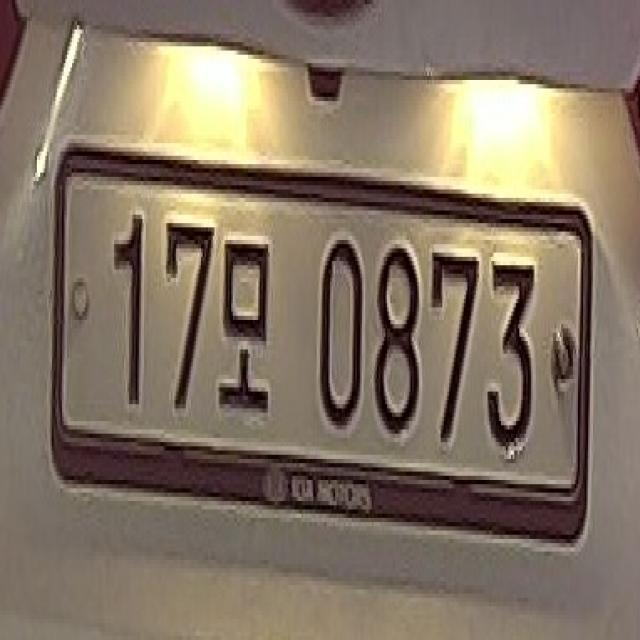0: (312, 210, 367, 438)
1: (106, 198, 150, 425)
3: (486, 244, 536, 463)
7: (156, 198, 218, 434), (425, 232, 481, 468)
8: (372, 223, 425, 451)
license_plate: (39, 139, 592, 564)
mo: (216, 223, 275, 425)
